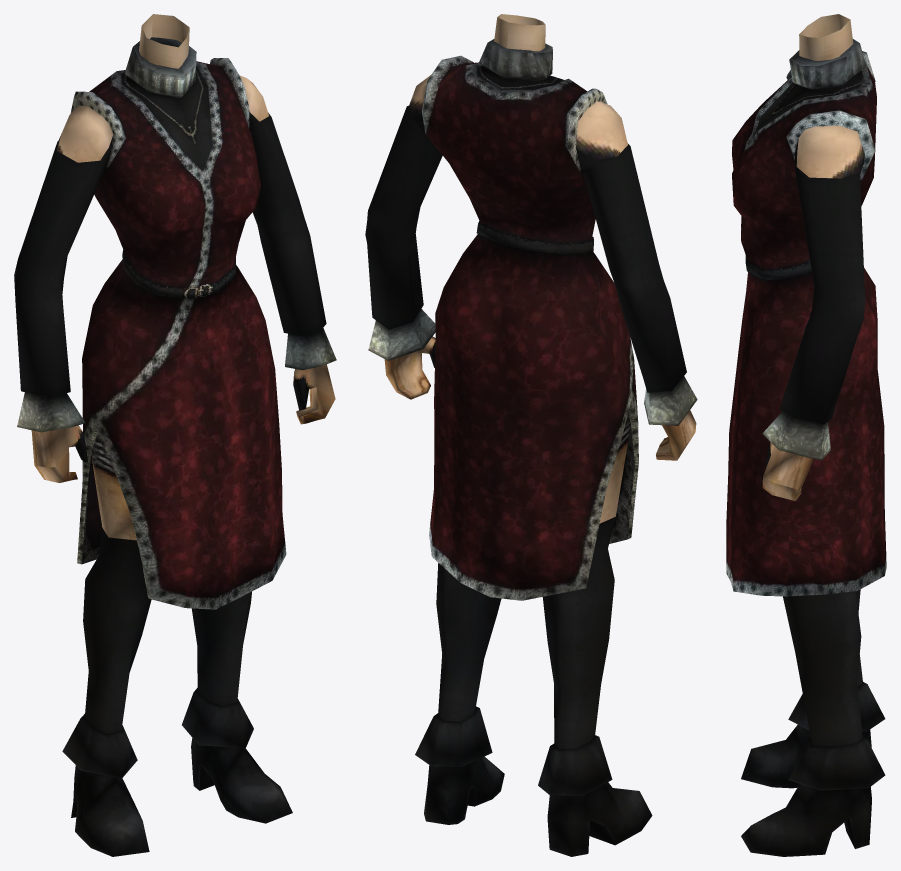
File: HUM_ARMOR_DRESS_07.glb
The picture shows the model from 3 angles, left to right: view 1: azimuth 30°, elevation 25°; view 2: azimuth 150°, elevation 25°; view 3: azimuth 270°, elevation 25°; orthographic projection. The views are drawn at different scales.
Parts seen in each view (by area): view 1: HUM_ARMOR_DRESS_07; view 2: HUM_ARMOR_DRESS_07; view 3: HUM_ARMOR_DRESS_07.
Part boxes in pixels (x1,y1,x2,y2): HUM_ARMOR_DRESS_07: [14, 14, 336, 856]; HUM_ARMOR_DRESS_07: [365, 14, 697, 856]; HUM_ARMOR_DRESS_07: [726, 14, 886, 856].
Bounding box in the file's own units: 0.6694 × 1.67 × 0.307.
Materials: 2 (2 with a texture image).
